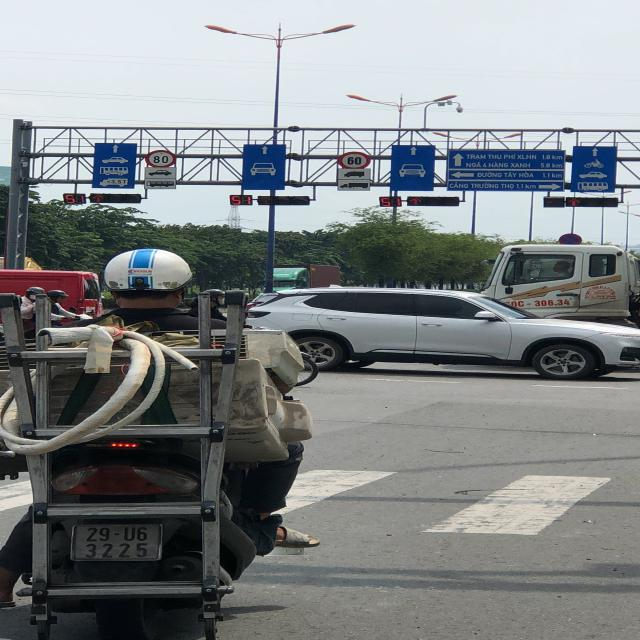Bien bao toc do toi da cho phep: (334, 151, 376, 170), (142, 148, 178, 169)
